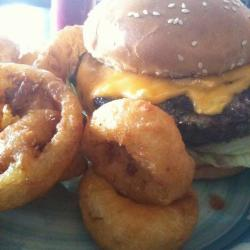burger: (75, 1, 250, 180)
